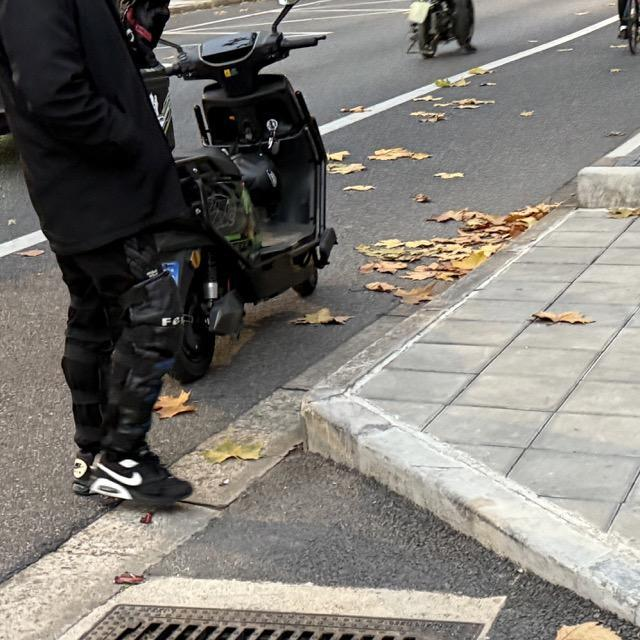curb: (301, 203, 640, 627), (577, 167, 639, 207), (171, 0, 257, 14)
